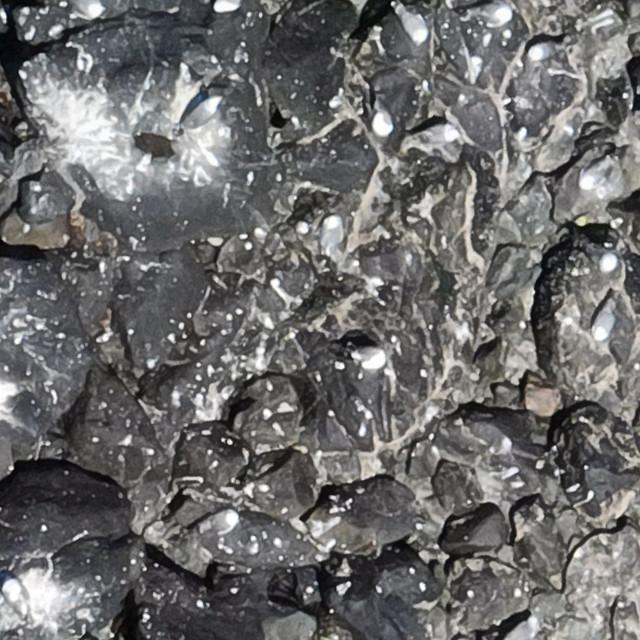umineko: (191, 510, 237, 541), (392, 4, 429, 42), (1, 580, 34, 622), (181, 96, 221, 130), (578, 155, 615, 191), (579, 236, 616, 271), (460, 2, 512, 26), (411, 124, 461, 148), (369, 100, 394, 138), (528, 42, 564, 62), (352, 347, 387, 367), (506, 618, 537, 640), (594, 306, 614, 338), (322, 217, 341, 249)
